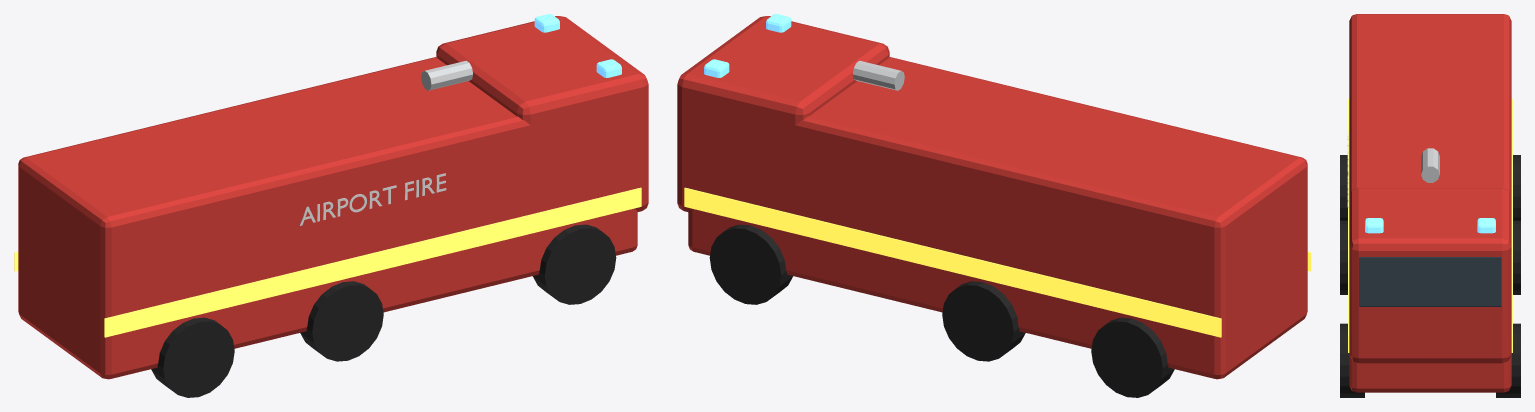
The model's file is firetender.glb.
3 views of the same model, side by side, from view 1: azimuth 30°, elevation 25°; view 2: azimuth 150°, elevation 25°; view 3: azimuth 270°, elevation 25° (orthographic). The views are drawn at different scales.
Parts seen in each view (by area): view 1: Fire tender red, Rubber black, Retro yellow, Fire label, Monitor, Blue beacon; view 2: Fire tender red, Rubber black, Retro yellow, Monitor, Blue beacon; view 3: Fire tender red, Windscreen, Rubber black, Retro yellow, Monitor, Blue beacon.
Part boxes in pixels (bbox=[...]): Fire tender red: bbox=[18, 16, 648, 379]; Rubber black: bbox=[151, 224, 616, 397]; Retro yellow: bbox=[14, 187, 641, 337]; Fire label: bbox=[300, 173, 446, 225]; Monitor: bbox=[421, 60, 472, 90]; Blue beacon: bbox=[534, 14, 621, 77]; Fire tender red: bbox=[677, 16, 1307, 379]; Rubber black: bbox=[709, 224, 1174, 397]; Retro yellow: bbox=[684, 187, 1311, 337]; Monitor: bbox=[853, 60, 904, 90]; Blue beacon: bbox=[704, 14, 791, 77]; Fire tender red: bbox=[1349, 14, 1511, 392]; Windscreen: bbox=[1359, 257, 1501, 306]; Rubber black: bbox=[1340, 155, 1520, 397]; Retro yellow: bbox=[1348, 98, 1512, 352]; Monitor: bbox=[1421, 148, 1439, 182]; Blue beacon: bbox=[1365, 218, 1495, 233].
Size of the model in its own units: 9.2 by 3.54 by 2.9.
